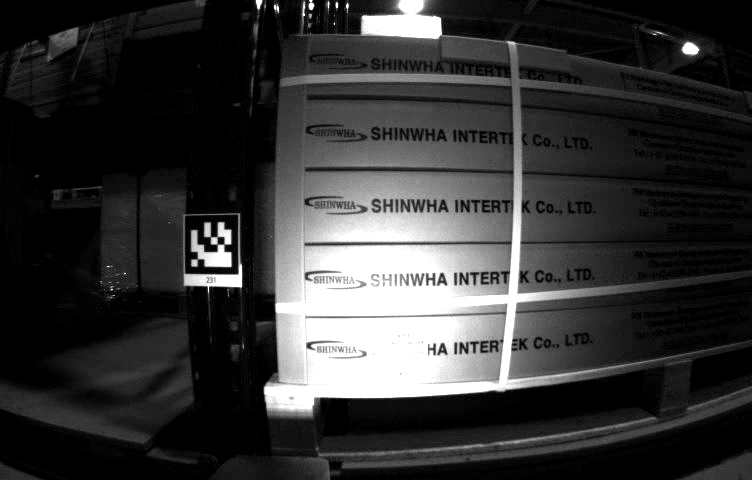True Barcode: (386, 331, 428, 372)
